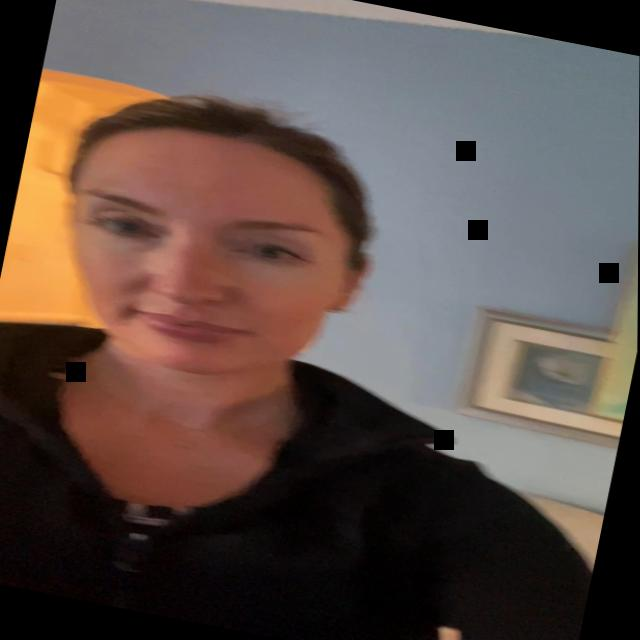NO-Mask: (16, 97, 385, 444)
